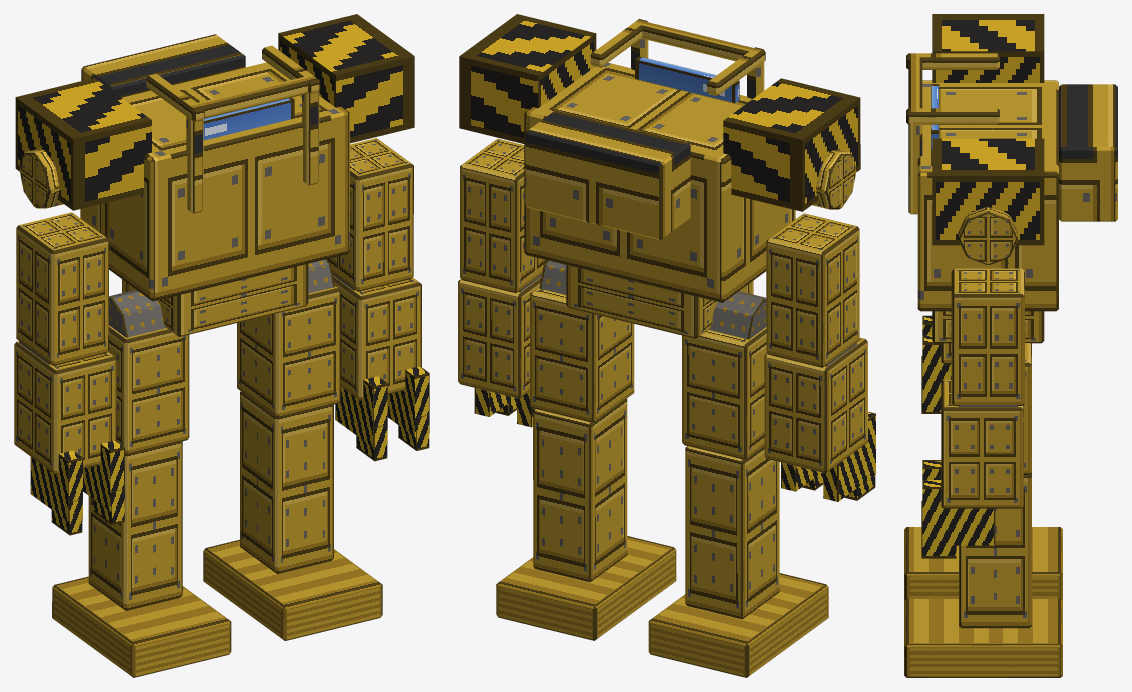
File: mech_construction.glb
The picture shows the model from 3 angles, left to right: view 1: azimuth 30°, elevation 25°; view 2: azimuth 150°, elevation 25°; view 3: azimuth 270°, elevation 25°; orthographic projection. The views are drawn at different scales.
Parts seen in each view (by area): view 1: Torso-head, con_shoulders, L_shin, R_upper_arm, R_shin, R_foot, L_foot, L_thigh, R_forearm, L_upper_arm, R_thigh, L_forearm (+7 smaller); view 2: Torso-head, con_shoulders, L_shin, R_shin, R_upper_arm, L_thigh, R_forearm, R_foot, L_foot, R_thigh, L_upper_arm, L_forearm (+7 smaller); view 3: Torso-head, con_shoulders, L_foot, L_upper_arm, L_forearm, L_shin, R_foot, L_claw, L_shoulder, R_claw, root_Pelvis, L_thigh (+1 smaller).
Boxes of the visible parts, x1=… form: Torso-head: x1=80, y1=34, x2=349, y2=301; con_shoulders: x1=15, y1=14, x2=414, y2=210; L_shin: x1=240, y1=391, x2=333, y2=574; R_upper_arm: x1=16, y1=212, x2=108, y2=365; R_shin: x1=88, y1=441, x2=182, y2=610; R_foot: x1=52, y1=576, x2=231, y2=677; L_foot: x1=203, y1=539, x2=382, y2=640; L_thigh: x1=237, y1=285, x2=340, y2=417; R_forearm: x1=14, y1=341, x2=116, y2=475; L_upper_arm: x1=327, y1=138, x2=413, y2=291; R_thigh: x1=108, y1=325, x2=189, y2=454; L_forearm: x1=333, y1=276, x2=421, y2=400; Torso-head: x1=524, y1=19, x2=795, y2=302; con_shoulders: x1=459, y1=14, x2=860, y2=211; L_shin: x1=533, y1=398, x2=627, y2=582; R_shin: x1=685, y1=446, x2=779, y2=619; R_upper_arm: x1=766, y1=213, x2=859, y2=367; L_thigh: x1=530, y1=287, x2=634, y2=422; R_forearm: x1=764, y1=337, x2=867, y2=473; R_foot: x1=648, y1=573, x2=828, y2=677; L_foot: x1=496, y1=536, x2=676, y2=640; R_thigh: x1=682, y1=327, x2=767, y2=459; L_upper_arm: x1=460, y1=138, x2=546, y2=293; L_forearm: x1=458, y1=277, x2=541, y2=398; Torso-head: x1=906, y1=53, x2=1117, y2=311; con_shoulders: x1=932, y1=14, x2=1044, y2=245; L_foot: x1=904, y1=598, x2=1062, y2=677; L_upper_arm: x1=951, y1=268, x2=1024, y2=405; L_forearm: x1=941, y1=379, x2=1023, y2=508; L_shin: x1=959, y1=473, x2=1031, y2=628; R_foot: x1=904, y1=527, x2=1062, y2=600; L_claw: x1=921, y1=460, x2=995, y2=558; L_shoulder: x1=958, y1=207, x2=1017, y2=264; R_claw: x1=921, y1=315, x2=951, y2=413; root_Pelvis: x1=932, y1=311, x2=1044, y2=343; L_thigh: x1=1023, y1=343, x2=1031, y2=474.
Bounding box in the file's own units: 21 × 30.19 × 10.89.
Materials: 1 (1 with a texture image).
